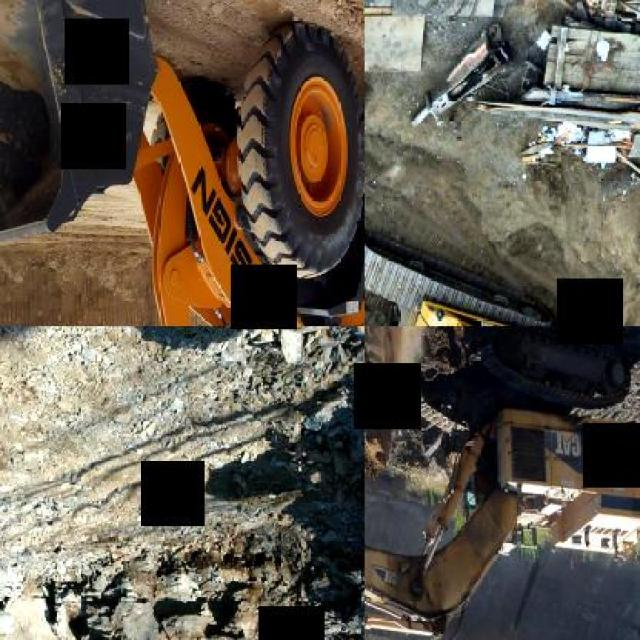buldozerpayloadergrader: (0, 0, 363, 325)
excavator: (364, 326, 638, 639), (365, 226, 597, 325)
